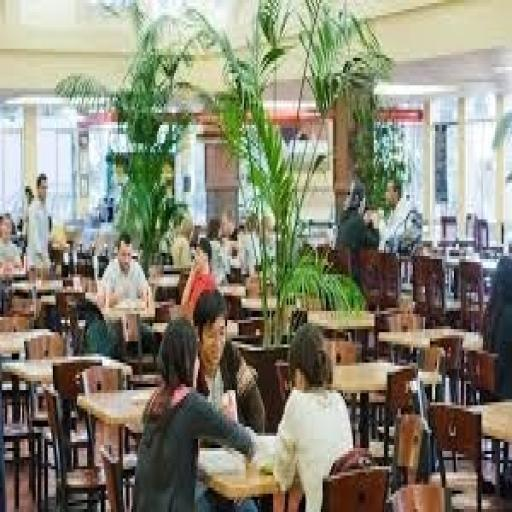eating: (132, 314, 261, 509), (270, 320, 356, 509)
